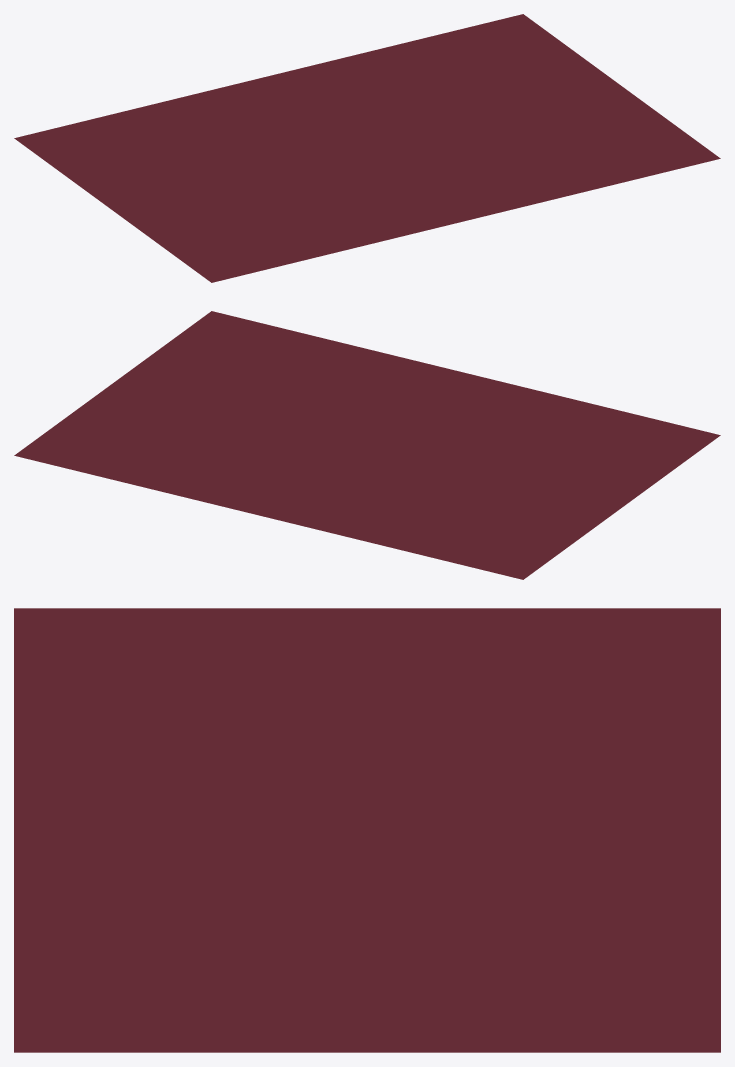
File: floor 1.glb
3 views of the same model, one above another, from view 1: azimuth 30°, elevation 25°; view 2: azimuth 150°, elevation 25°; view 3: azimuth 270°, elevation 25° (orthographic). The views are drawn at different scales.
Visible parts, largest first — view 1: full floor; view 2: full floor; view 3: full floor.
Boxes of the visible parts, <box> form: full floor: <box>14,14,720,282</box>; full floor: <box>14,311,720,579</box>; full floor: <box>14,608,720,1052</box>.
Bounding box in the file's own units: 2 × 0 × 1.34.
